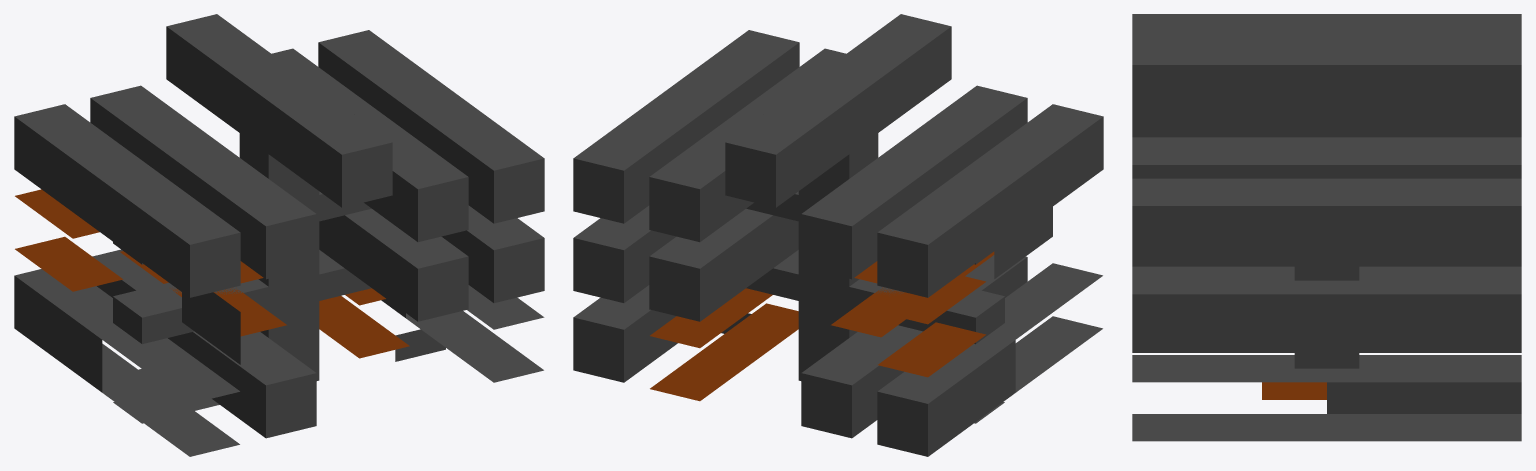
Rendered from bomb_rack.obj.
3 views of the same model, side by side, from view 1: azimuth 30°, elevation 25°; view 2: azimuth 150°, elevation 25°; view 3: azimuth 270°, elevation 25° (orthographic). The views are drawn at different scales.
Parts seen in each view (by area): view 1: cube16, cube19, cube8, cube15, cube18, cube13, cube7, cube17, cube12, cube, cube14, cube10 (+7 smaller); view 2: cube16, cube19, cube8, cube15, cube18, cube13, cube17, cube7, cube9, cube12, cube, cube10 (+5 smaller); view 3: cube18, cube19, cube14, cube10, cube17, cube16, cube15, cube9, cube2, cube3, cube, cube13.
Part boxes in pixels (x1=…): cube16: x1=14, y1=104, x2=240, y2=297; cube19: x1=166, y1=14, x2=392, y2=207; cube8: x1=14, y1=269, x2=239, y2=456; cube15: x1=90, y1=85, x2=316, y2=279; cube18: x1=318, y1=30, x2=544, y2=223; cube13: x1=319, y1=208, x2=468, y2=321; cube7: x1=92, y1=249, x2=316, y2=438; cube17: x1=271, y1=48, x2=468, y2=242; cube12: x1=15, y1=189, x2=240, y2=364; cube: x1=239, y1=133, x2=319, y2=380; cube14: x1=441, y1=205, x2=544, y2=302; cube10: x1=381, y1=285, x2=544, y2=382; cube16: x1=877, y1=104, x2=1103, y2=297; cube19: x1=725, y1=14, x2=951, y2=207; cube8: x1=877, y1=263, x2=1102, y2=456; cube15: x1=801, y1=85, x2=1027, y2=279; cube18: x1=573, y1=30, x2=799, y2=223; cube13: x1=649, y1=208, x2=798, y2=321; cube17: x1=649, y1=48, x2=846, y2=242; cube7: x1=801, y1=255, x2=1027, y2=438; cube9: x1=650, y1=288, x2=798, y2=401; cube12: x1=878, y1=207, x2=1052, y2=377; cube: x1=798, y1=133, x2=878, y2=380; cube10: x1=573, y1=285, x2=677, y2=382; cube18: x1=1132, y1=178, x2=1521, y2=264; cube19: x1=1132, y1=37, x2=1521, y2=123; cube14: x1=1132, y1=266, x2=1521, y2=352; cube10: x1=1132, y1=355, x2=1521, y2=441; cube17: x1=1132, y1=137, x2=1521, y2=178; cube16: x1=1132, y1=14, x2=1521, y2=37; cube15: x1=1132, y1=123, x2=1521, y2=137; cube9: x1=1262, y1=382, x2=1326, y2=399; cube2: x1=1294, y1=264, x2=1359, y2=280; cube3: x1=1294, y1=353, x2=1359, y2=368; cube: x1=1294, y1=123, x2=1359, y2=137; cube13: x1=1132, y1=264, x2=1521, y2=266.
Size of the model in its own units: 0.875 by 0.6875 by 0.75.
